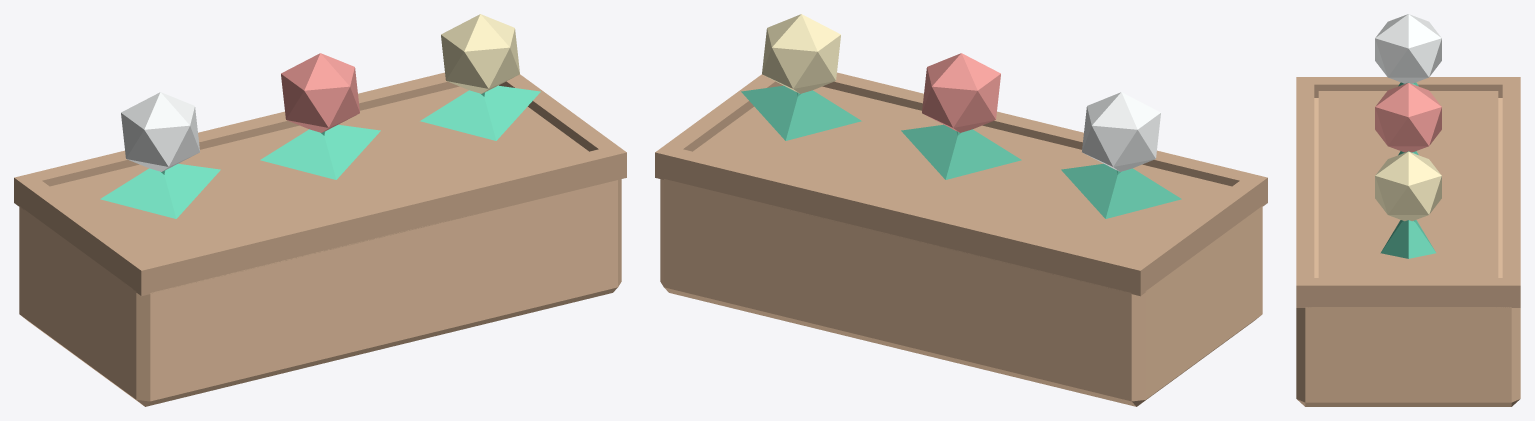
File: flower_window_box.glb
3 views of the same model, side by side, from view 1: azimuth 30°, elevation 25°; view 2: azimuth 150°, elevation 25°; view 3: azimuth 270°, elevation 25° (orthographic). The views are drawn at different scales.
Visible parts, largest first — view 1: Planter, Soil, Rim, Rim.001, Flower.001, Flower, Flower.002, RimEnd, Leaves.001, Leaves.002, Leaves, RimEnd.001; view 2: Planter, Soil, Rim.001, Rim, Flower.001, Flower, Flower.002, RimEnd, Leaves.001, Leaves.002, Leaves, RimEnd.001; view 3: Soil, Planter, RimEnd.001, Rim.001, Rim, Flower, Flower.001, Flower.002, RimEnd, Leaves.002.
Boxes of the visible parts, x1,y1,x2,y2 form: Planter: (19, 179, 621, 406); Soil: (50, 85, 588, 258); Rim: (131, 145, 626, 296); Rim.001: (14, 72, 459, 209); Flower.001: (281, 53, 359, 132); Flower: (121, 92, 199, 171); Flower.002: (441, 14, 519, 93); RimEnd: (24, 181, 148, 287); Leaves.001: (260, 124, 380, 179); Leaves.002: (420, 85, 540, 140); Leaves: (100, 163, 220, 218); RimEnd.001: (499, 74, 616, 151); Planter: (660, 179, 1262, 406); Soil: (693, 85, 1231, 258); Rim.001: (655, 145, 1150, 296); Rim: (822, 72, 1267, 208); Flower.001: (922, 53, 1000, 132); Flower: (1082, 92, 1160, 171); Flower.002: (762, 14, 840, 93); RimEnd: (1133, 181, 1257, 287); Leaves.001: (901, 124, 1021, 179); Leaves.002: (741, 85, 861, 140); Leaves: (1061, 163, 1181, 218); RimEnd.001: (665, 74, 782, 151); Soil: (1318, 91, 1498, 277); Planter: (1296, 98, 1520, 406); RimEnd.001: (1314, 278, 1502, 306); Rim.001: (1502, 77, 1520, 307); Rim: (1296, 77, 1314, 307); Flower: (1375, 14, 1441, 83); Flower.001: (1375, 83, 1441, 152); Flower.002: (1375, 151, 1441, 221); RimEnd: (1314, 77, 1502, 97); Leaves.002: (1380, 220, 1436, 258).
Size of the model in its own units: 0.4 by 0.2 by 0.1818.
